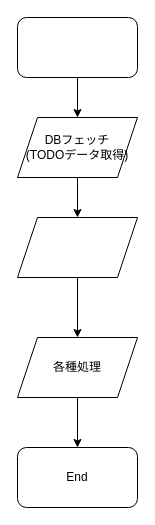
Image size: 155x525. Some labels were removed from this diagram. The centre of each missing label's shape, as x and y in pixels:
Start(アプリ起動): the point at 77,47
全データ表示: the point at 77,247
